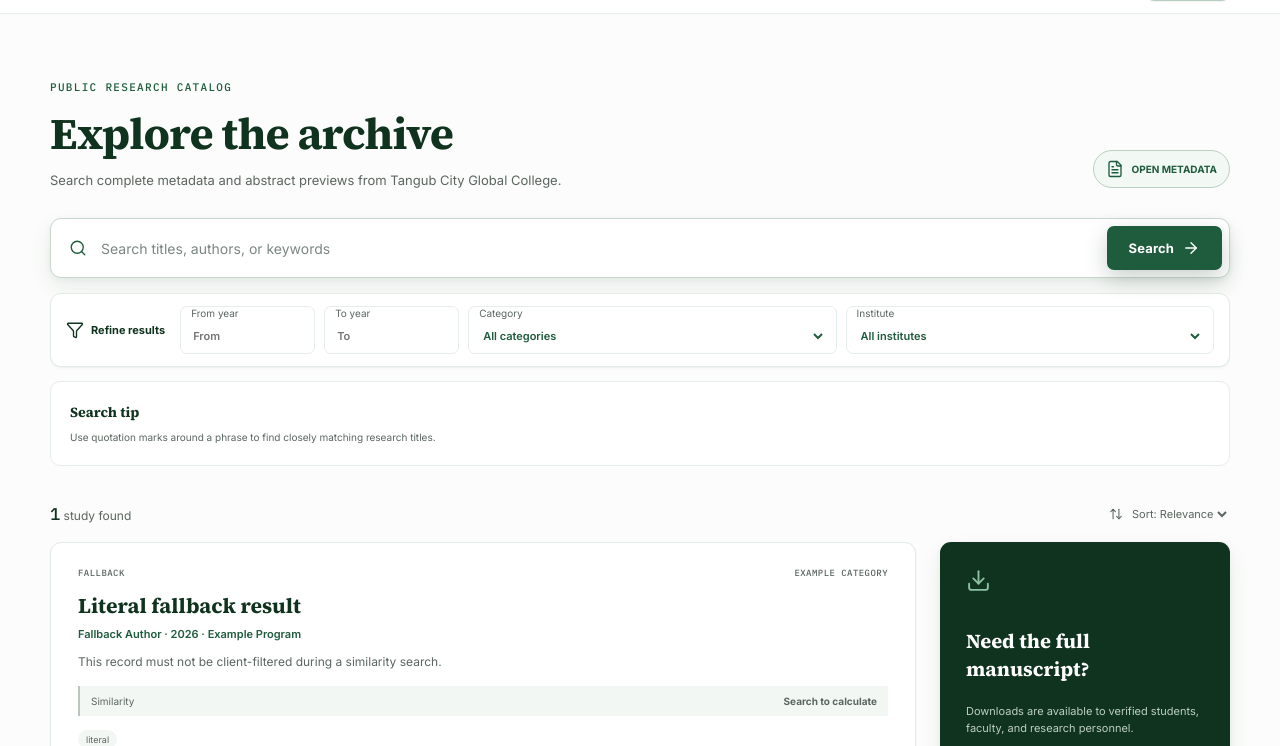
Test: CatalogPage public similarity search › does not calculate a score until search is submitted
Type "typed but not submitted" into the field named "Search the repository" at [597, 248], box 99,227 -> 1095,269
(page scrolled)
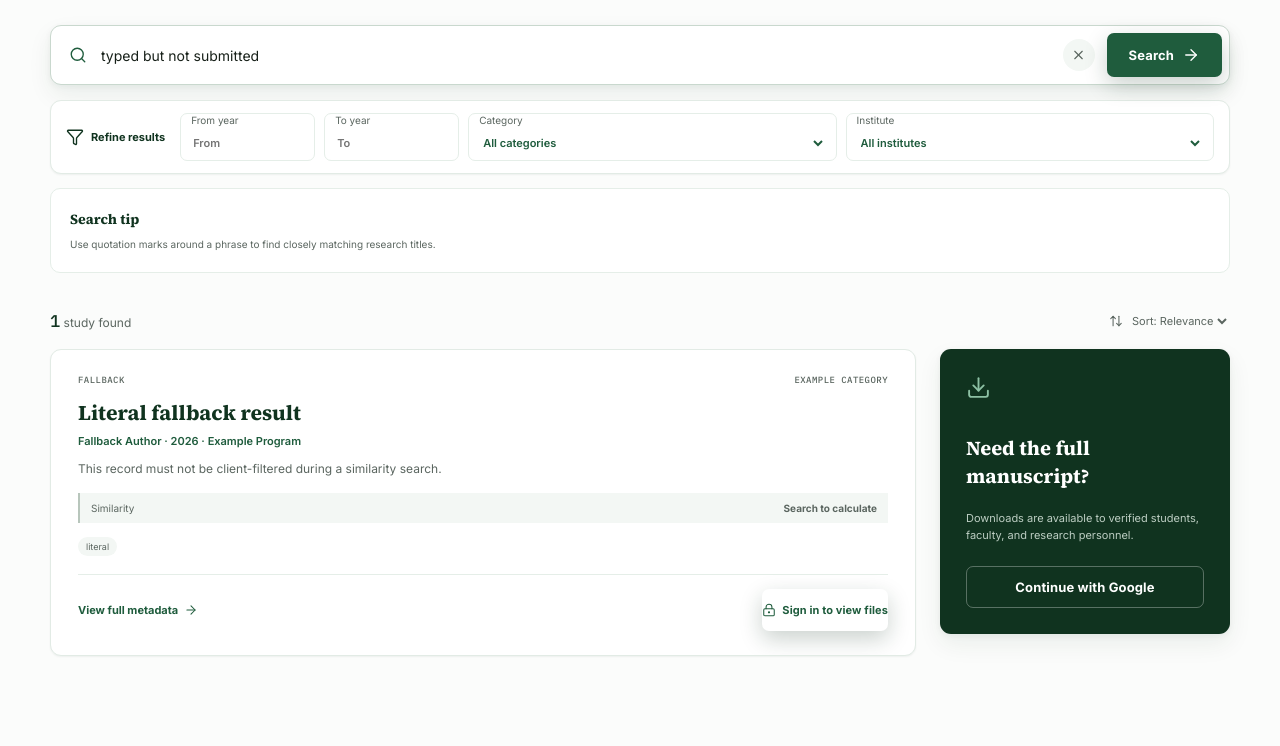
Expected: the text "Search to calculate" is shown, 784,502 -> 877,514
Click the button "View full metadata" at [138, 610], box 78,589 -> 198,631
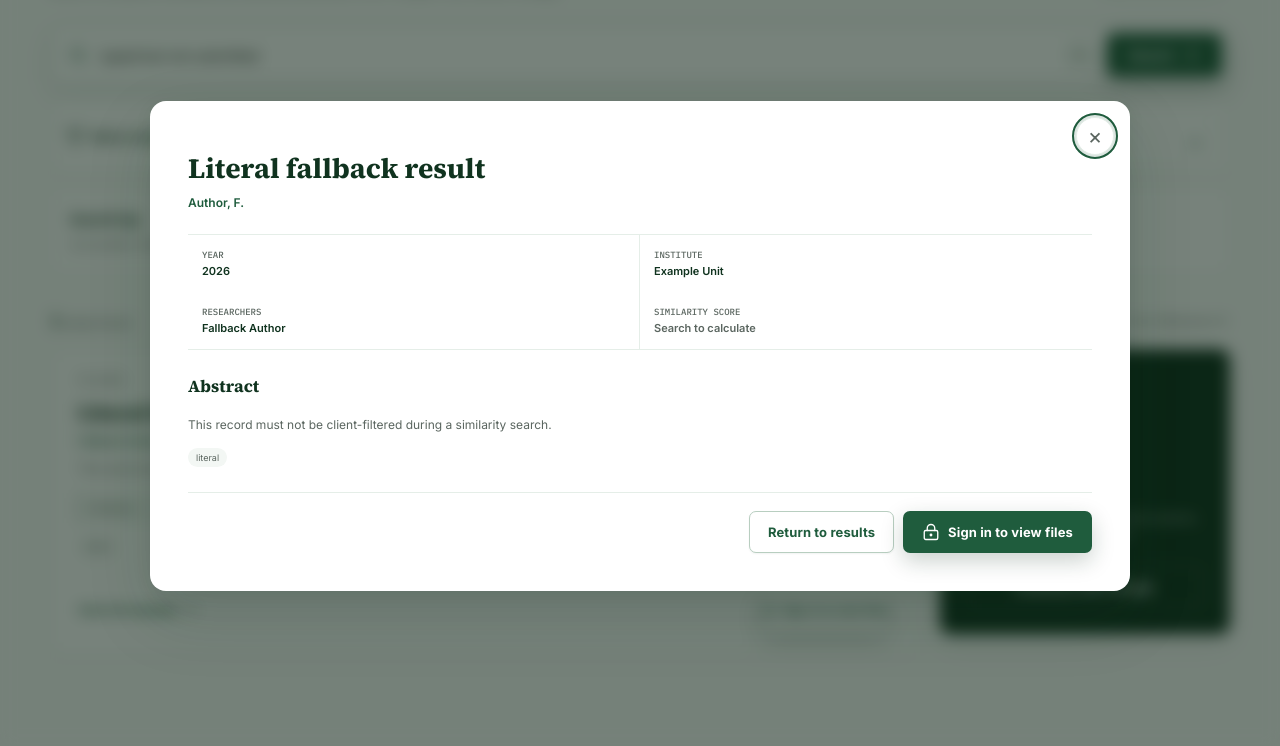
Expected: the text "Search to calculate" is shown, 654,321 -> 756,335
